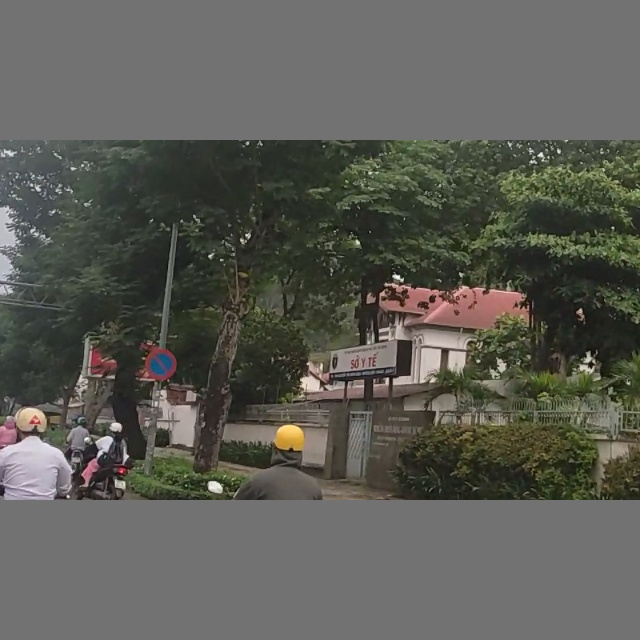P.131a: (142, 348, 176, 380)
